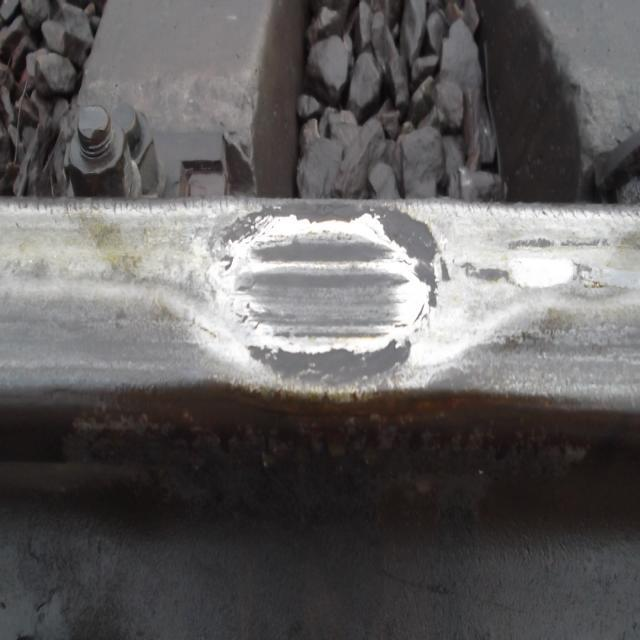head_checks_high: (163, 205, 509, 397)
